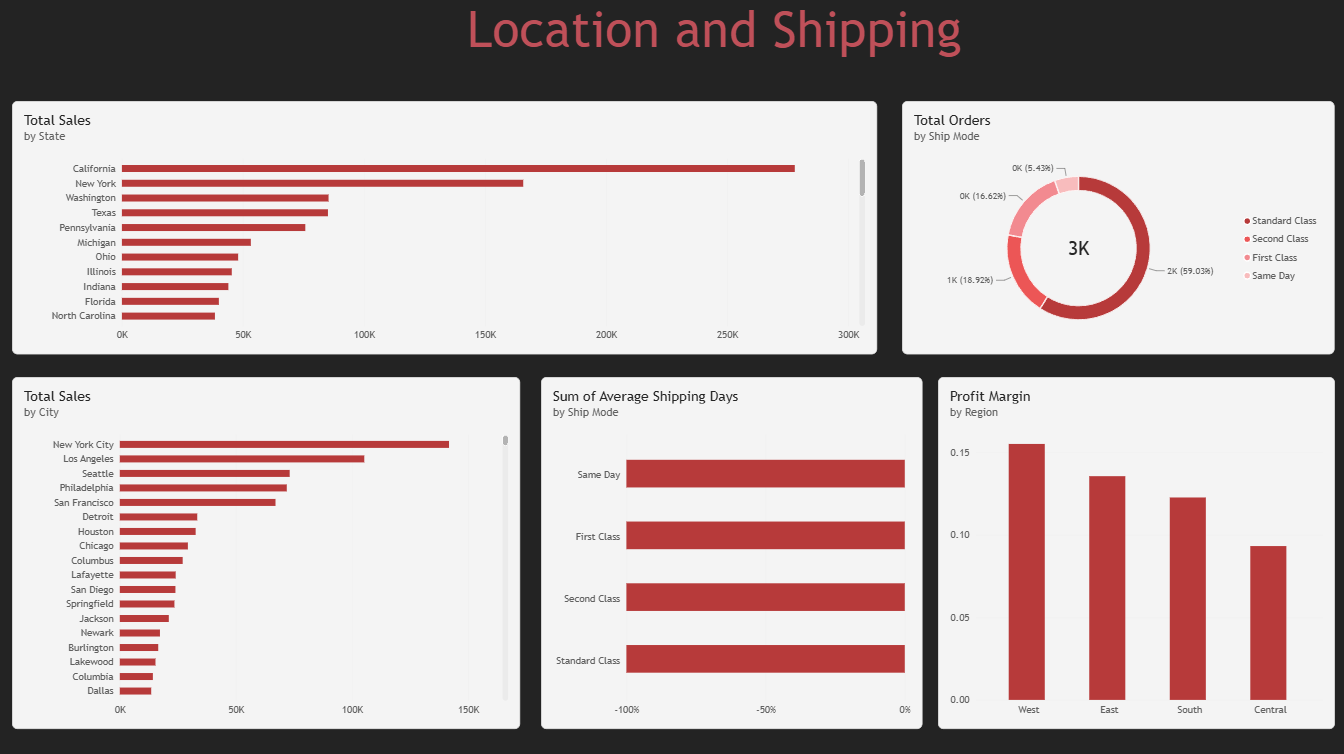

This screenshot's page, from the dashboard's own definition file:
{"tool":"powerbi","page":{"name":"Location and Shipping","canvas":[1920,1080],"ordinal":3},"visuals":[{"type":"barChart","fields":{"Category":["Table1.State"],"Y":["Table1.Total Sales"]},"box":[16.8,146.2,1235.6,362.3],"z":0},{"type":"clusteredBarChart","fields":{"Category":["Table1.City"],"Y":["Table1.Total Sales"]},"box":[16.8,539.5,725.8,503.3],"z":1},{"type":"donutChart","fields":{"Category":["Table1.Ship Mode"],"Y":["Table1.Total Orders"]},"box":[1301.6,146.2,618.4,362.3],"z":2},{"type":"hundredPercentStackedBarChart","fields":{"Category":["Table1.Ship Mode"],"Y":["Sum(Table1.Average Shipping Days)"]},"box":[772.4,539.5,544.7,503.3],"z":3},{"type":"clusteredColumnChart","fields":{"Category":["Table1.Region"],"Y":["Table1.Profit Margin"]},"box":[1340.4,539.5,566.7,503.3],"z":4},{"type":"textbox","box":[1767,133,150,362],"z":5},{"type":"textbox","box":[745.2,0,807.3,107.4],"z":6}]}

Visuals, with their boxes in screenshot pixels (x1, y1, x2, y2), scaled from the page's 1920x1080 canvas onto the 1344x754 screenshot:
barChart - Table1.State x Table1.Total Sales: pyautogui.locateOnScreen(12, 102, 877, 355)
clusteredBarChart - Table1.City x Table1.Total Sales: pyautogui.locateOnScreen(12, 377, 520, 728)
donutChart - Table1.Ship Mode x Table1.Total Orders: pyautogui.locateOnScreen(911, 102, 1343, 355)
hundredPercentStackedBarChart - Table1.Ship Mode x Sum(Table1.Average Shipping Days): pyautogui.locateOnScreen(541, 377, 922, 728)
clusteredColumnChart - Table1.Region x Table1.Profit Margin: pyautogui.locateOnScreen(938, 377, 1335, 728)
textbox: pyautogui.locateOnScreen(1237, 93, 1342, 346)
textbox: pyautogui.locateOnScreen(522, 0, 1087, 75)
